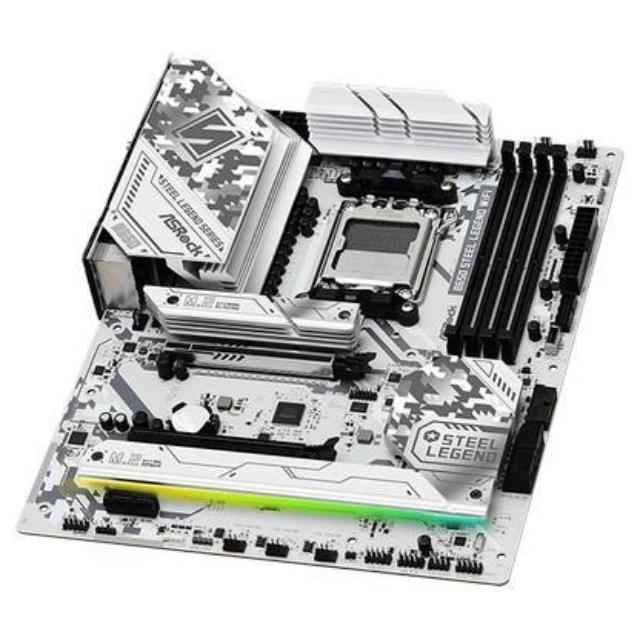Mainboard: (10, 60, 625, 585)
